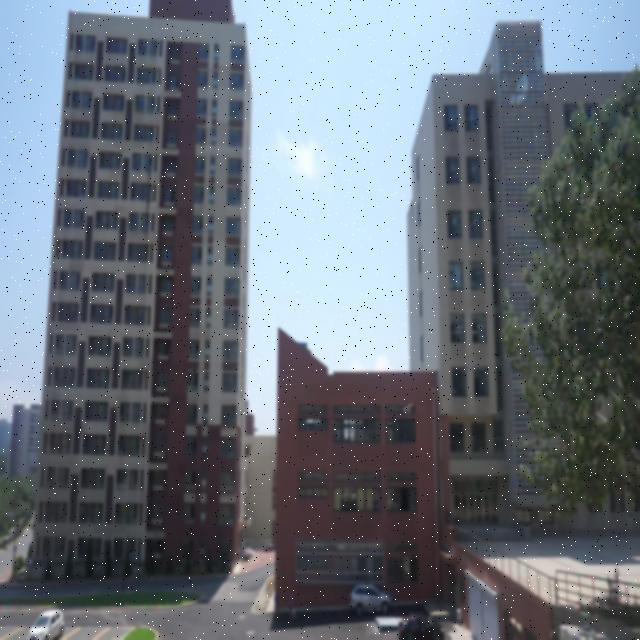UAV: (403, 403, 413, 413)
